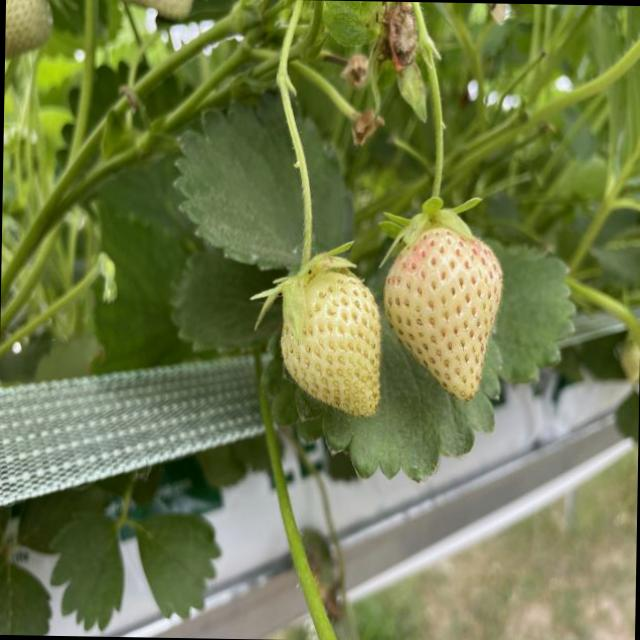stem: (379, 2, 480, 261), (276, 0, 313, 266)
strawberryNR: (384, 226, 502, 400), (280, 269, 379, 416)
